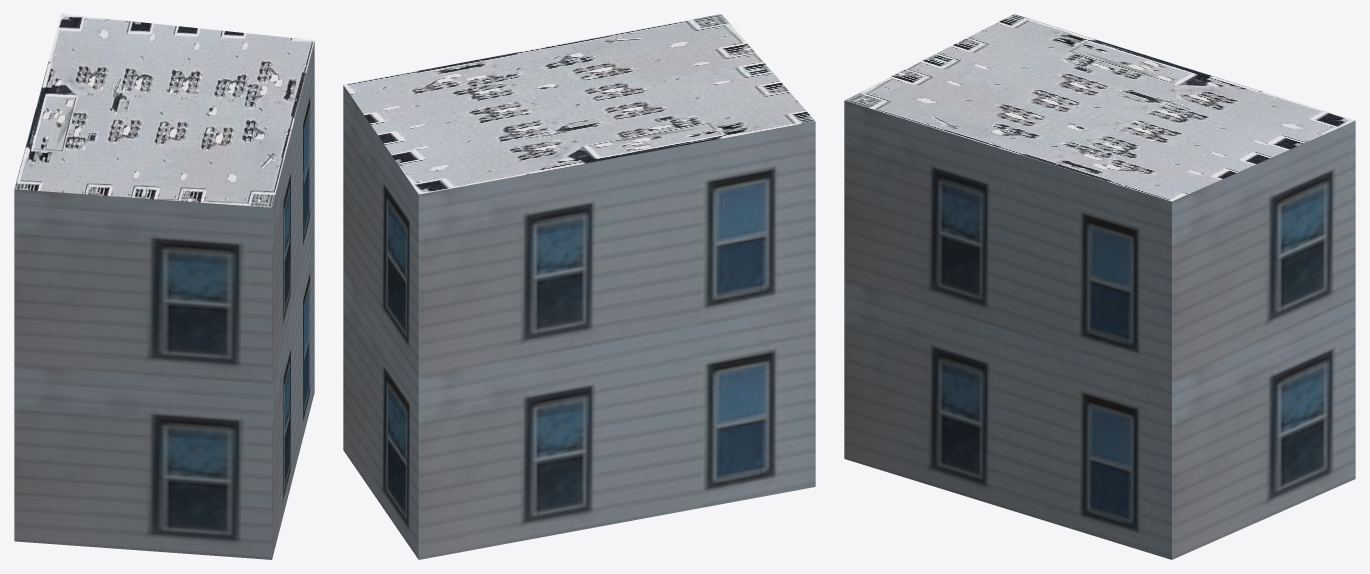
Rendered from ResTex__1408.fbx.
3 views of the same model, side by side, from view 1: azimuth 30°, elevation 25°; view 2: azimuth 150°, elevation 25°; view 3: azimuth 270°, elevation 25° (orthographic). The views are drawn at different scales.
Parts seen in each view (by area): view 1: CityEngineMaterial_18_m, CityEngineMaterial_8_m; view 2: CityEngineMaterial_18_m, CityEngineMaterial_8_m; view 3: CityEngineMaterial_18_m, CityEngineMaterial_8_m.
Boxes of the visible parts, box(x1,y1,x2,y2) form: CityEngineMaterial_18_m: box(14, 41, 314, 559); CityEngineMaterial_8_m: box(14, 14, 314, 207); CityEngineMaterial_18_m: box(343, 85, 815, 559); CityEngineMaterial_8_m: box(343, 14, 815, 194); CityEngineMaterial_18_m: box(844, 100, 1355, 559); CityEngineMaterial_8_m: box(844, 14, 1355, 201).
Bounding box in the file's own units: 6.74 × 6 × 7.76.
2 materials, 2 textured.
